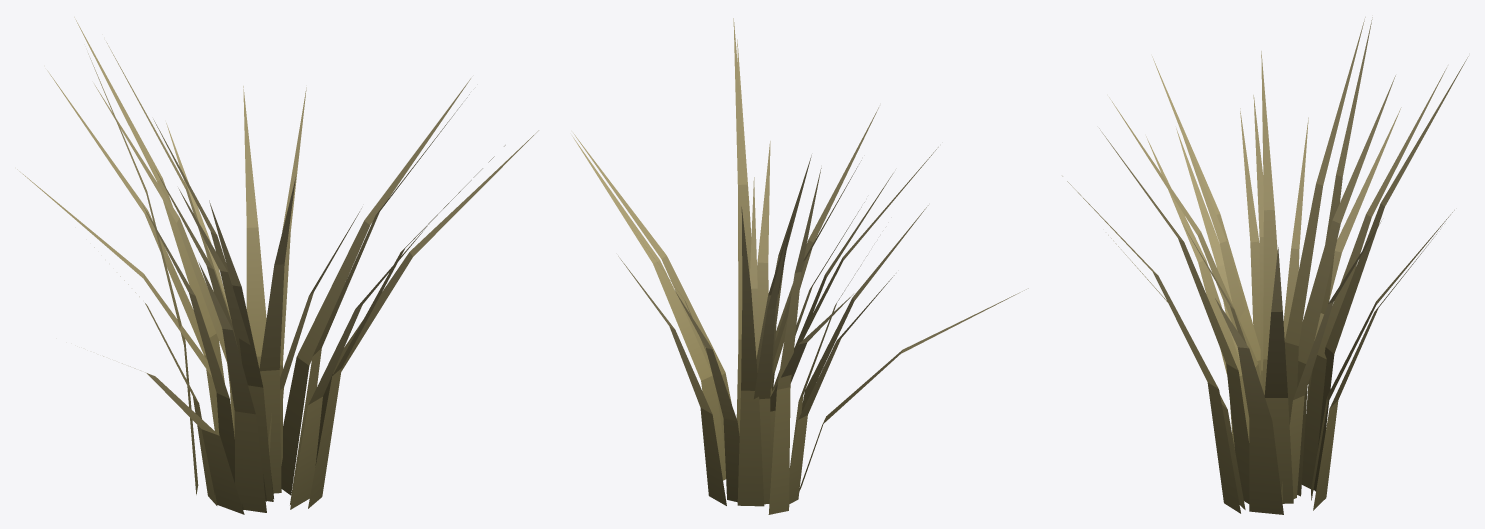
The model's file is grass_dry_02.glb.
The picture shows the model from 3 angles, left to right: view 1: azimuth 30°, elevation 25°; view 2: azimuth 150°, elevation 25°; view 3: azimuth 270°, elevation 25°; orthographic projection. The views are drawn at different scales.
Visible parts, largest first — view 1: grass_dry_02; view 2: grass_dry_02; view 3: grass_dry_02.
Boxes of the visible parts, x1,y1,x2,y2 form: grass_dry_02: (17,17,538,514); grass_dry_02: (572,18,1028,514); grass_dry_02: (1062,17,1468,514).
Size of the model in its own units: 1.28 by 1.09 by 0.9463.
